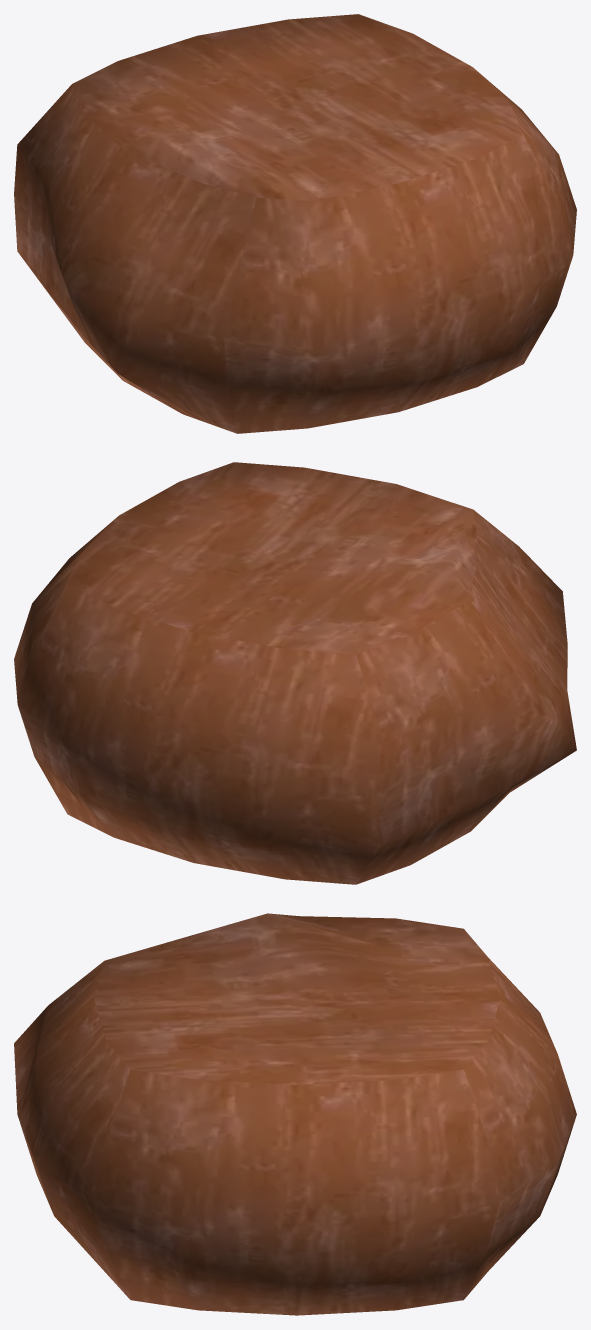
File: desert_rock_formation_1.glb
3 renders of one model, top to bottom at view 1: azimuth 30°, elevation 25°; view 2: azimuth 150°, elevation 25°; view 3: azimuth 270°, elevation 25°, orthographic.
Parts seen in each view (by area): view 1: Rock_Formations_1; view 2: Rock_Formations_1; view 3: Rock_Formations_1.
Boxes of the visible parts, box(x1,y1,x2,y2) form: Rock_Formations_1: box(14, 14, 576, 433); Rock_Formations_1: box(14, 462, 576, 884); Rock_Formations_1: box(14, 913, 576, 1315).
Size of what is drawn, in the model's own units: 6.27 by 3.02 by 6.25.
Materials: 1 (1 with a texture image).
